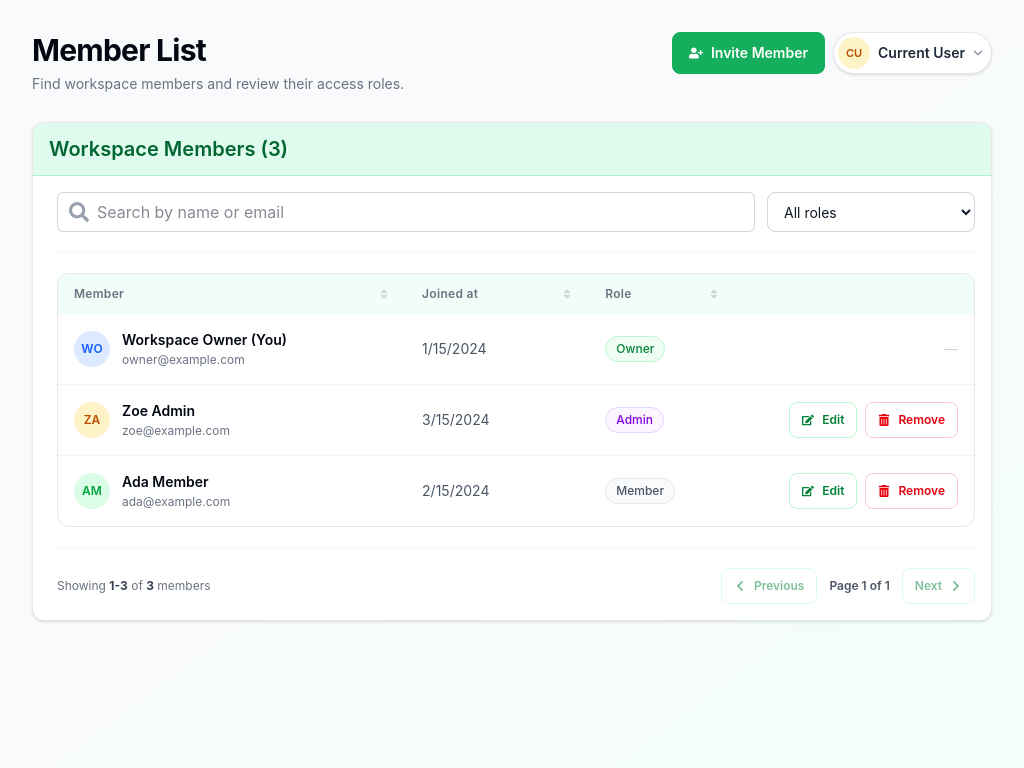
Test: Workspace members page › searches member details and filters the loaded page by role
Expected: the number of rows is 4, [58,274,974,314]; [58,314,974,384]; [58,384,974,456]; [58,456,974,526]
Type "ada@example.com" into the search field named "Search members" at (406, 212), box [57,192,755,232]
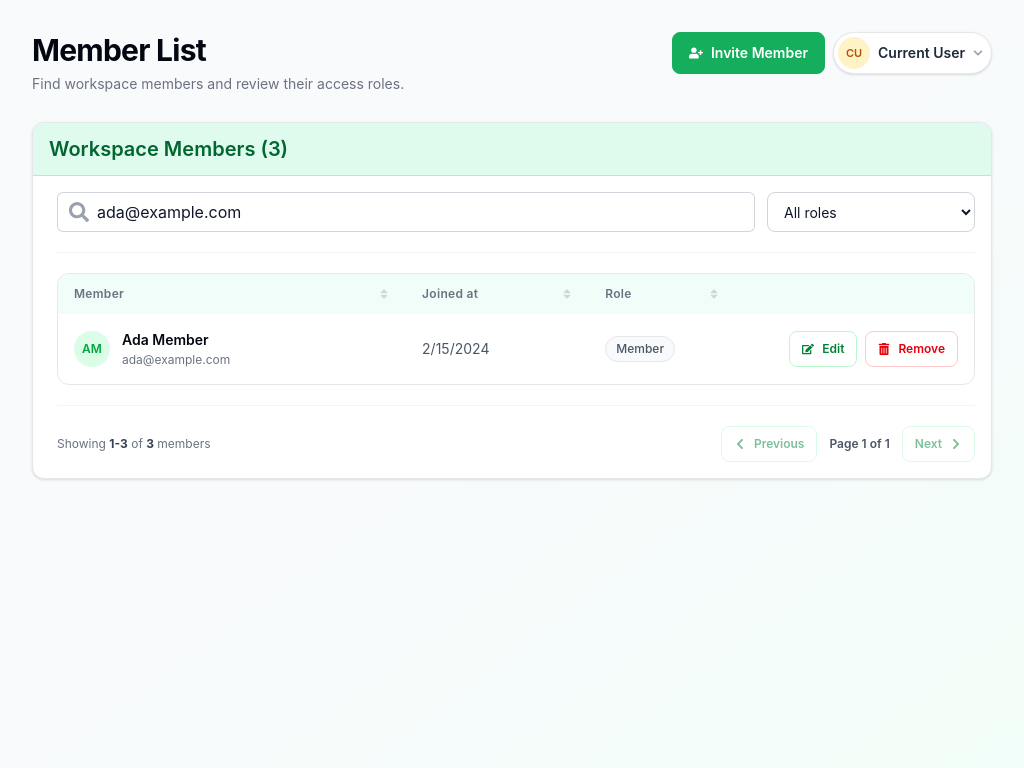
Expected: the text "Ada Member" is shown, [122,331,209,348]
Expected: the text "Zoe Admin" is gone
Clear the search field named "Search members" at (406, 212), box [57,192,755,232]
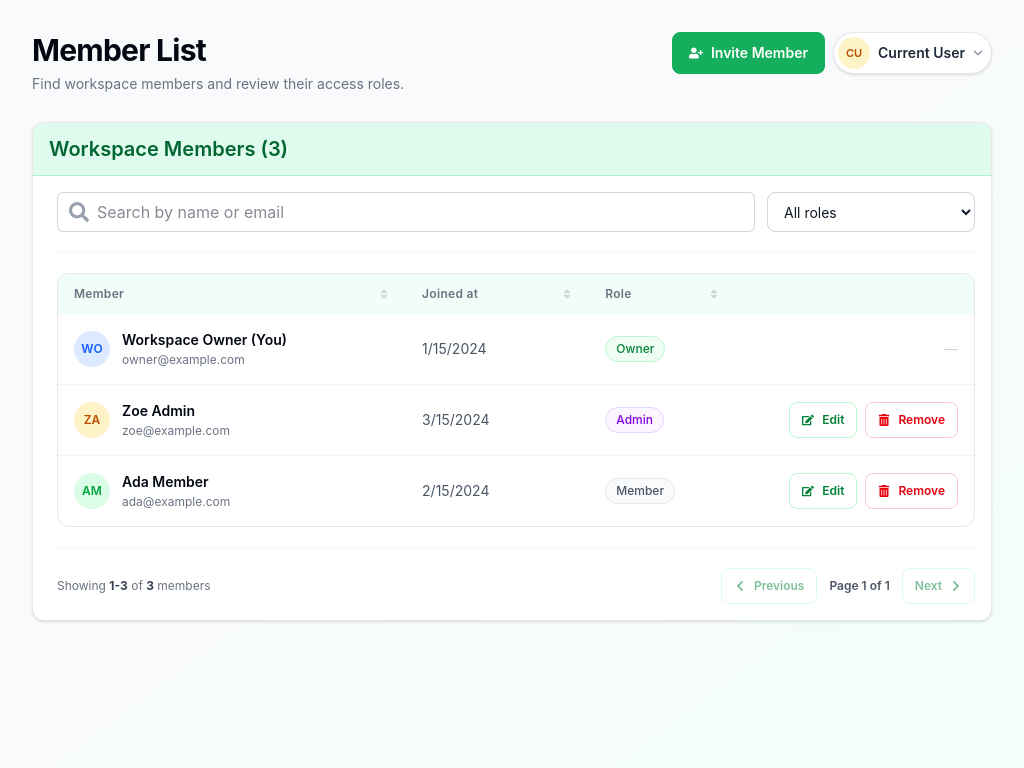
Select "Admin" in the dropdown named "Filter members by role" at (871, 212), box [767,192,975,232]
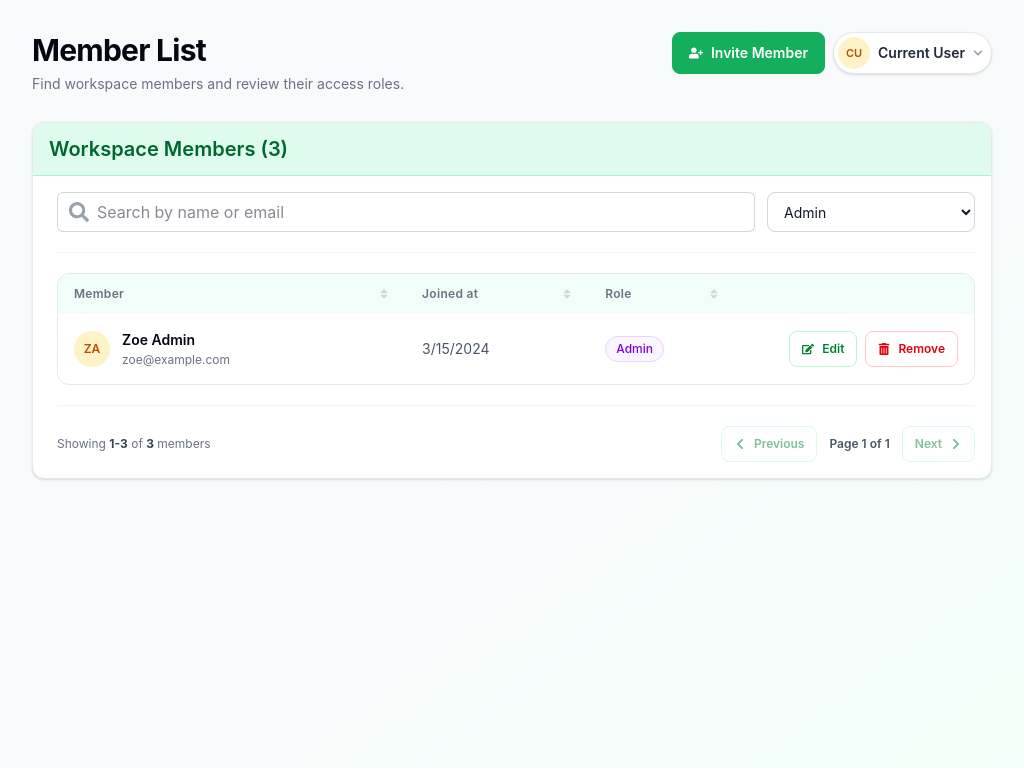
Expected: the text "Zoe Admin" is shown, [122,331,195,348]
Expected: the text "Ada Member" is gone
